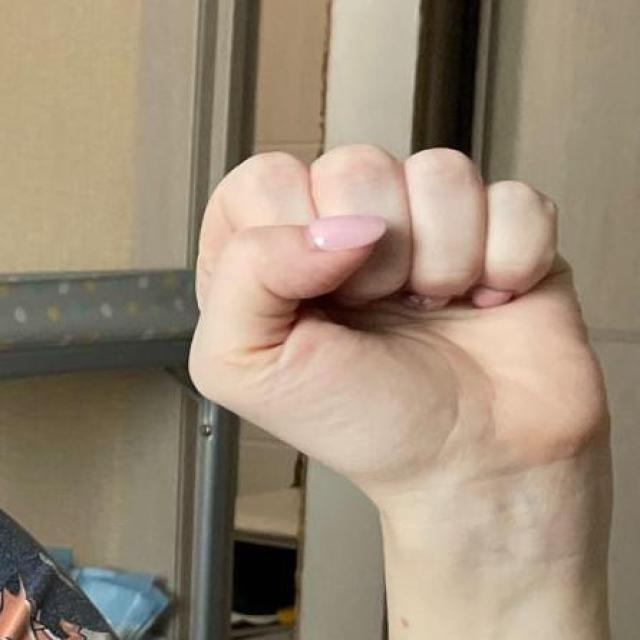hand: (185, 140, 613, 501)
